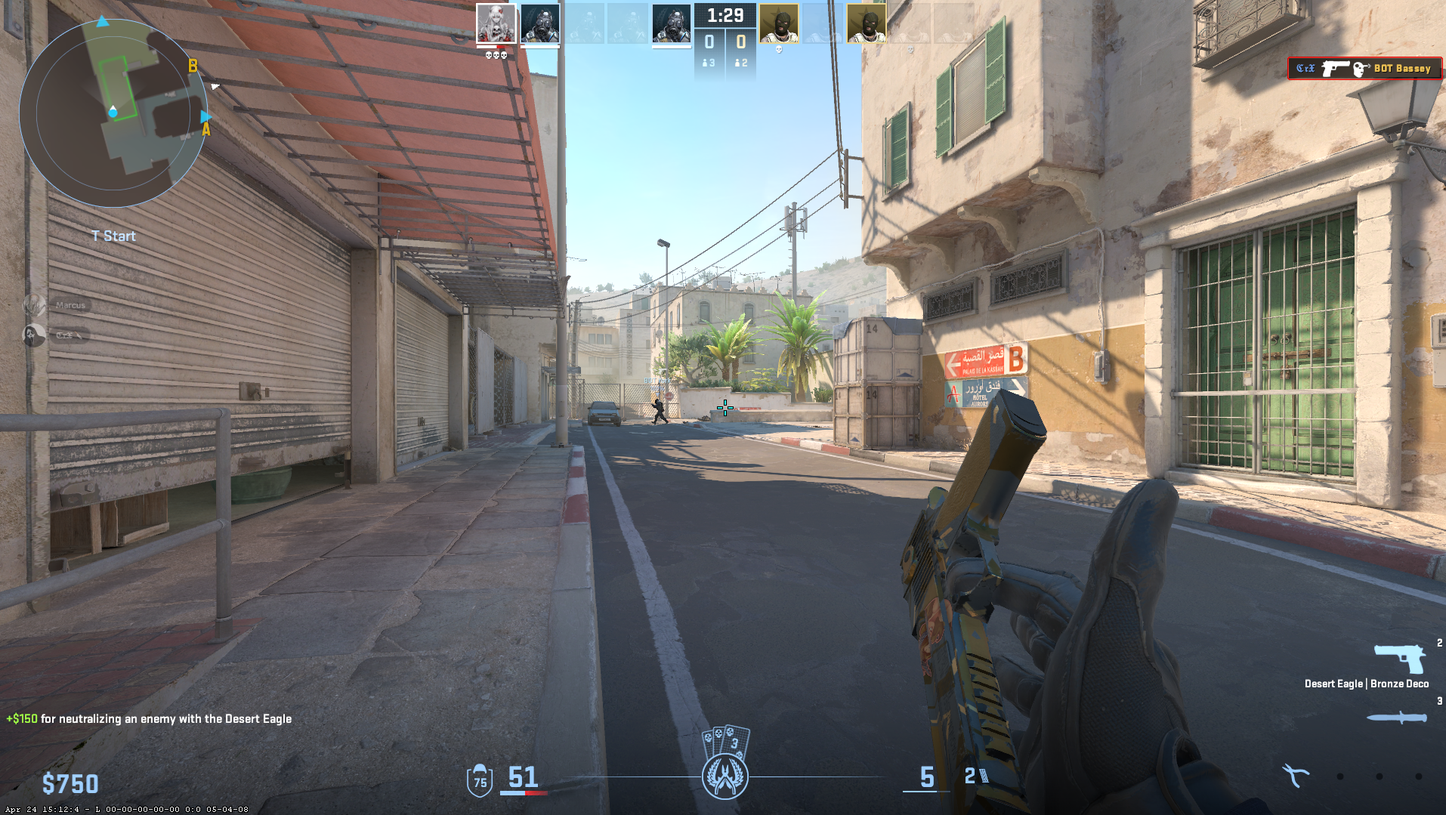CT: (650, 400, 666, 424)
